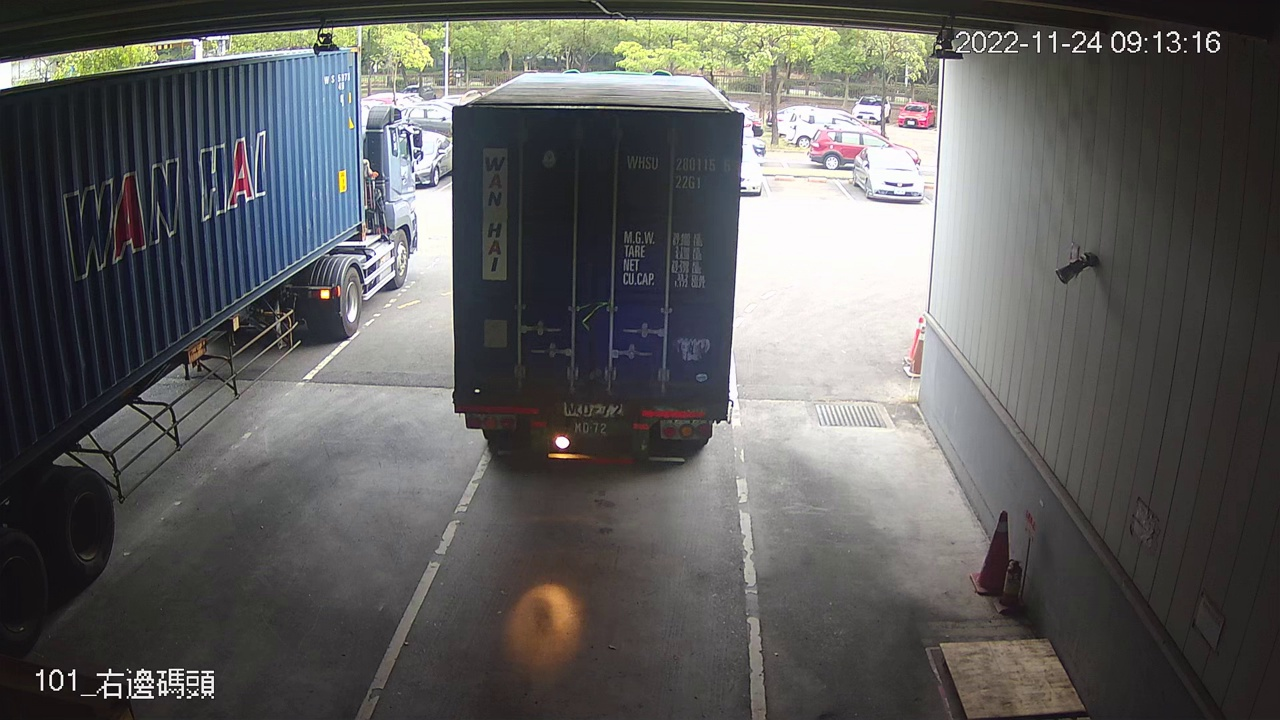container: (623, 150, 735, 196)
